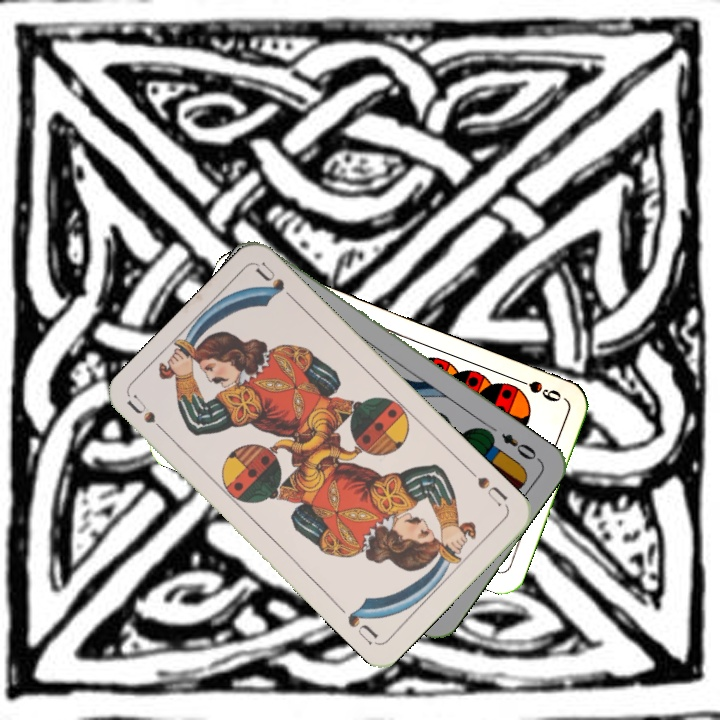EO: (497, 429, 543, 464)
S9: (509, 373, 564, 405)
SU: (124, 391, 173, 441), (464, 465, 510, 509)
